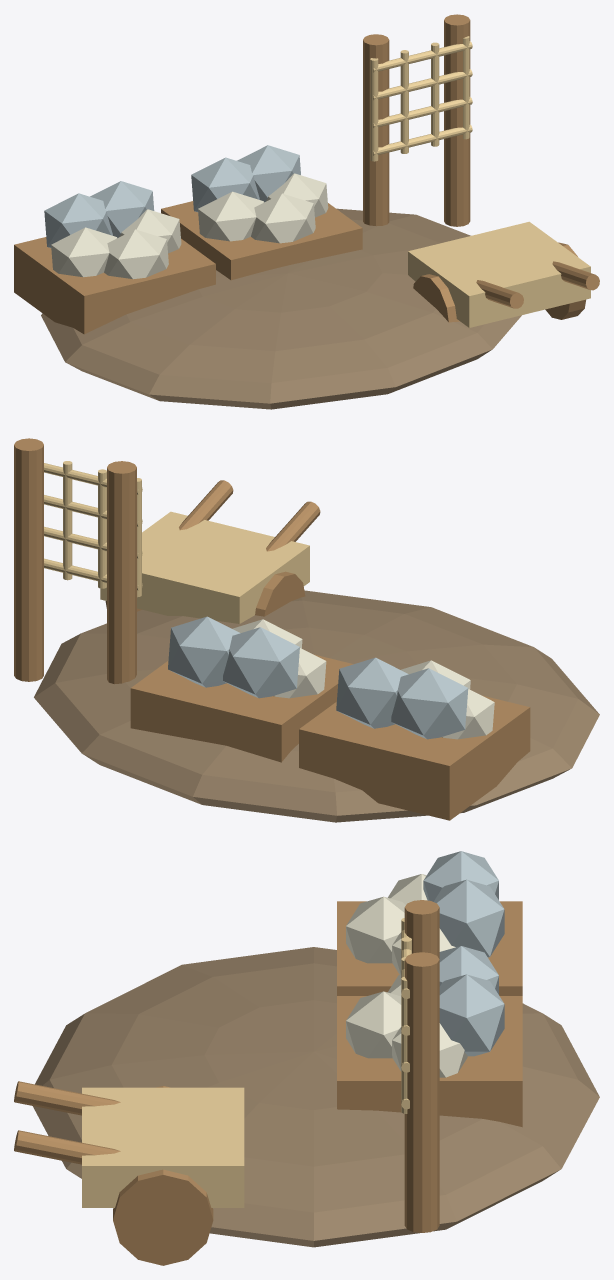
The model's file is PebbleYard.fbx.
3 renders of one model, top to bottom at view 1: azimuth 30°, elevation 25°; view 2: azimuth 150°, elevation 25°; view 3: azimuth 270°, elevation 25°, orthographic. The views are drawn at different scales.
Parts seen in each view (by area): view 1: Stone yard earth, Handcart tray, Sorting bin, Sorting bin.001, Sieve stand.001, Sieve stand, Sorted pebble.002, Sorted pebble.007, Sorted pebble.009, Sorted pebble.004, Sorted pebble.001, Sorted pebble.006 (+16 smaller); view 2: Stone yard earth, Sorting bin, Handcart tray, Sorting bin.001, Sieve stand.001, Sieve stand, Sorted pebble.001, Sorted pebble.006, Sorted pebble.003, Sorted pebble.008, Cart wheel, Sorted pebble.009 (+12 smaller); view 3: Stone yard earth, Handcart tray, Sorting bin.001, Sieve stand.001, Cart wheel.001, Sorting bin, Sorted pebble.008, Sorted pebble.003, Sorted pebble.002, Sorted pebble.007, Sorted pebble.001, Cart handle (+6 smaller).
Boxes of the visible parts, x1=… form: Stone yard earth: x1=41, y1=208, x2=521, y2=409; Handcart tray: x1=408, y1=221, x2=590, y2=327; Sorting bin: x1=14, y1=237, x2=215, y2=334; Sorting bin.001: x1=161, y1=201, x2=362, y2=280; Sieve stand.001: x1=444, y1=14, x2=470, y2=226; Sieve stand: x1=363, y1=34, x2=389, y2=226; Sorted pebble.002: x1=104, y1=229, x2=168, y2=279; Sorted pebble.007: x1=251, y1=193, x2=315, y2=243; Sorted pebble.009: x1=198, y1=191, x2=264, y2=241; Sorted pebble.004: x1=51, y1=227, x2=117, y2=277; Sorted pebble.001: x1=44, y1=193, x2=112, y2=247; Sorted pebble.006: x1=191, y1=157, x2=259, y2=212; Stone yard earth: x1=34, y1=590, x2=599, y2=822; Sorting bin: x1=299, y1=695, x2=530, y2=820; Handcart tray: x1=100, y1=511, x2=309, y2=623; Sorting bin.001: x1=130, y1=654, x2=353, y2=762; Sieve stand.001: x1=14, y1=438, x2=43, y2=681; Sieve stand: x1=107, y1=461, x2=136, y2=684; Sorted pebble.001: x1=391, y1=668, x2=468, y2=739; Sorted pebble.006: x1=223, y1=627, x2=299, y2=698; Sorted pebble.003: x1=336, y1=657, x2=408, y2=728; Sorted pebble.008: x1=168, y1=616, x2=240, y2=687; Cart wheel: x1=255, y1=571, x2=305, y2=616; Sorted pebble.009: x1=273, y1=648, x2=326, y2=698; Stone yard earth: x1=33, y1=947, x2=599, y2=1247; Handcart tray: x1=82, y1=1087, x2=244, y2=1207; Sorting bin.001: x1=337, y1=996, x2=522, y2=1127; Sieve stand.001: x1=404, y1=952, x2=439, y2=1232; Cart wheel.001: x1=113, y1=1169, x2=213, y2=1265; Sorting bin: x1=337, y1=901, x2=522, y2=995; Sorted pebble.008: x1=439, y1=974, x2=504, y2=1056; Sorted pebble.003: x1=433, y1=879, x2=504, y2=957; Sorted pebble.002: x1=346, y1=896, x2=405, y2=963; Sorted pebble.007: x1=346, y1=991, x2=401, y2=1058; Sorted pebble.001: x1=423, y1=851, x2=498, y2=901; Cart handle: x1=14, y1=1081, x2=120, y2=1115.
Bounding box in the file's own units: 176 × 91 × 152.
